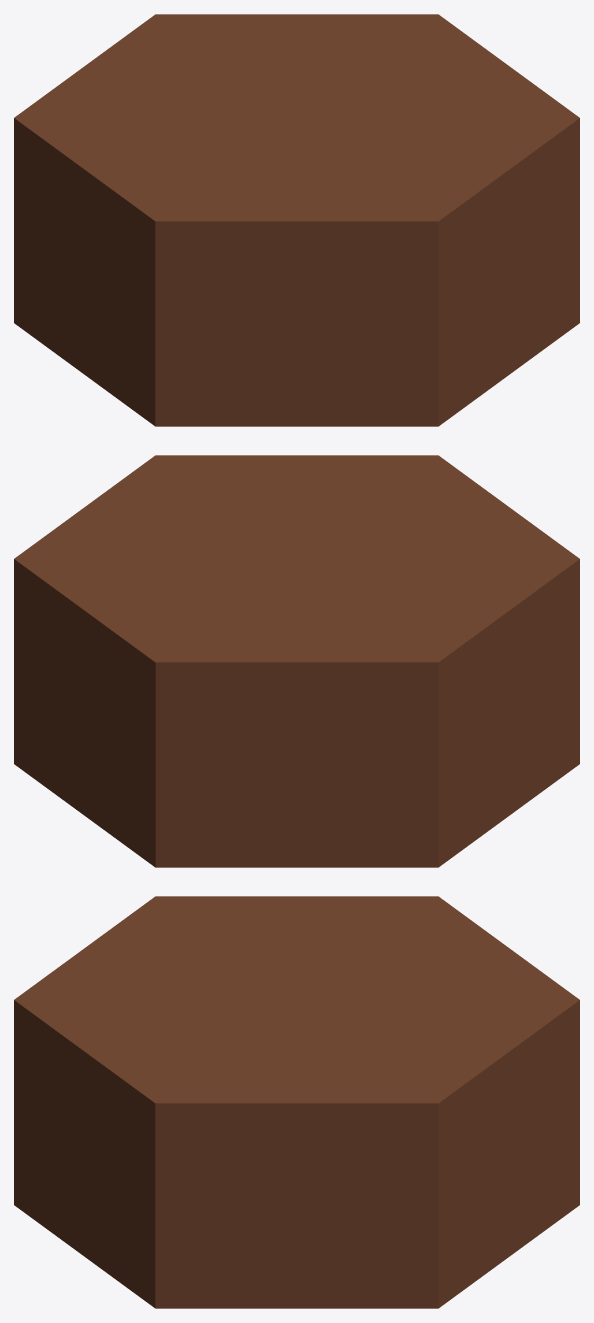
Rendered from _wooden_wall_t_3.glb.
3 views of the same model, one above another, from view 1: azimuth 30°, elevation 25°; view 2: azimuth 150°, elevation 25°; view 3: azimuth 270°, elevation 25° (orthographic).
Visible parts, largest first — view 1: WoodenWallInsideTall; view 2: WoodenWallInsideTall; view 3: WoodenWallInsideTall.
Boxes of the visible parts, box(x1,y1,x2,y2) form: WoodenWallInsideTall: box(14, 14, 579, 426); WoodenWallInsideTall: box(14, 455, 579, 867); WoodenWallInsideTall: box(14, 896, 579, 1308).
Bounding box in the file's own units: 1.73 × 0.8 × 2.
1 material, 1 textured.
